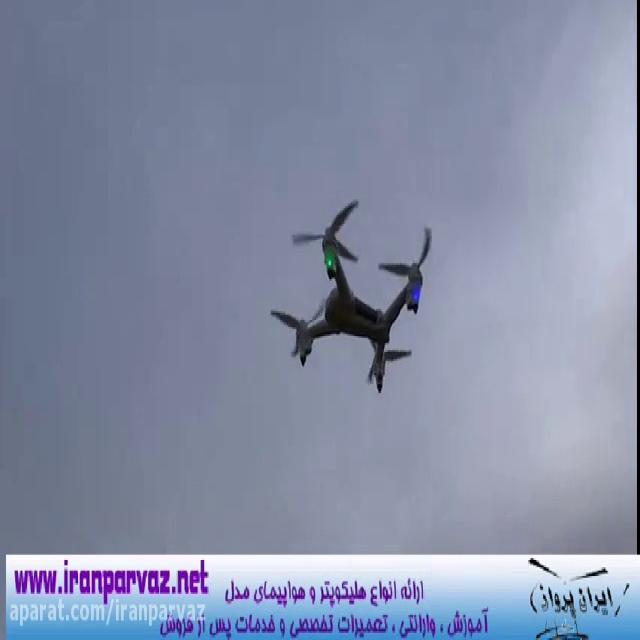drone: (267, 194, 434, 396)
